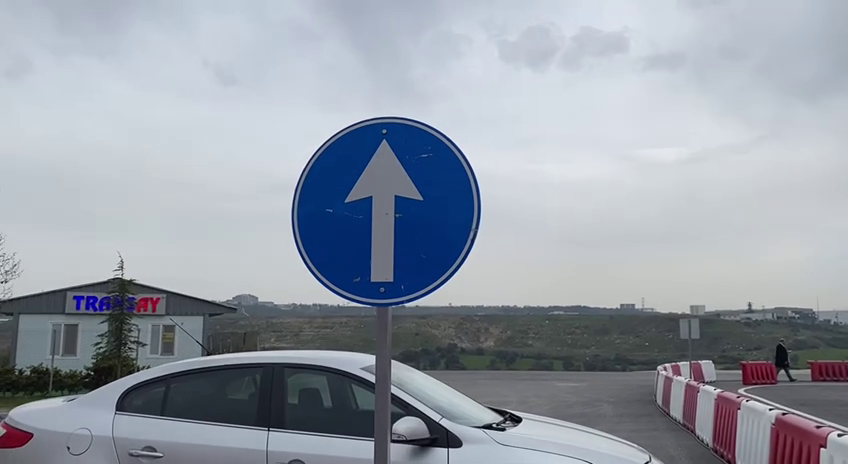forward: (288, 109, 487, 308)
